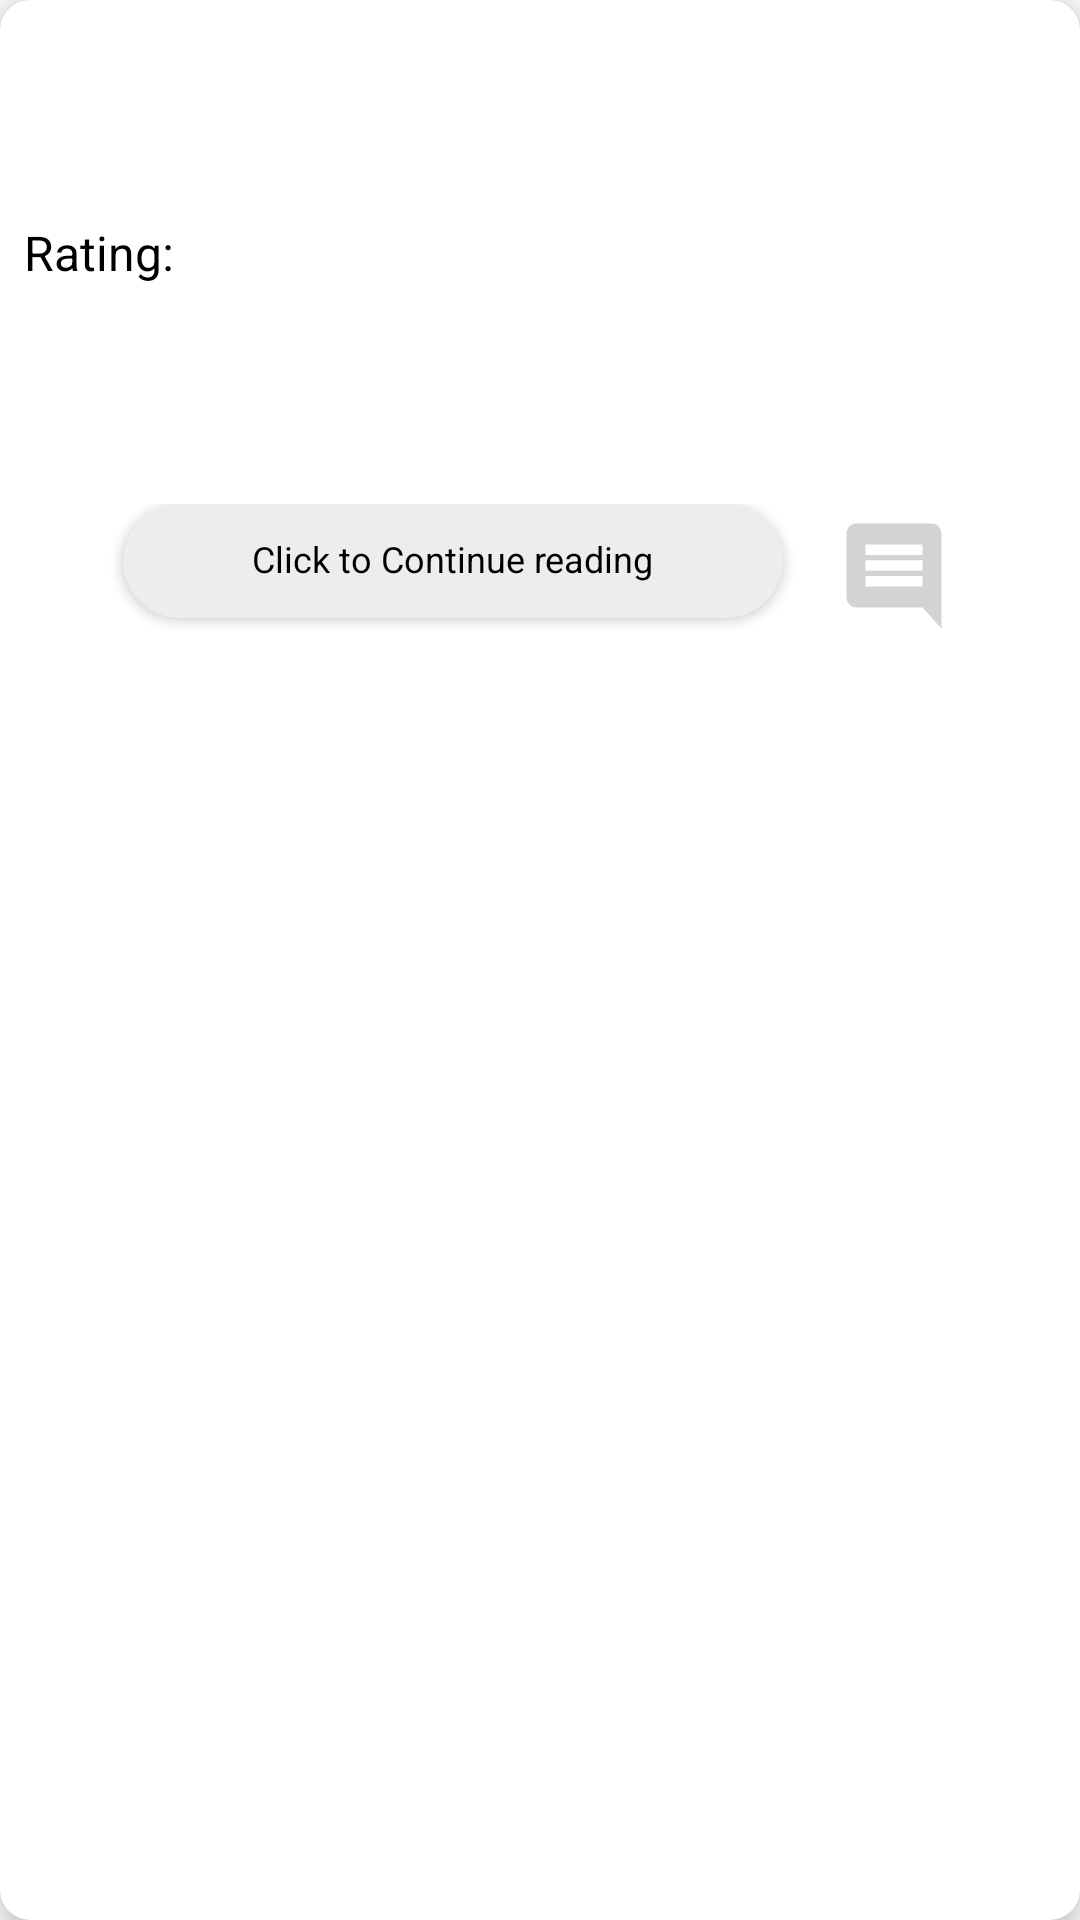

Icon click points for this 1080px×1920px phone screenshot, format [x,y]:
comment: [894,575]
